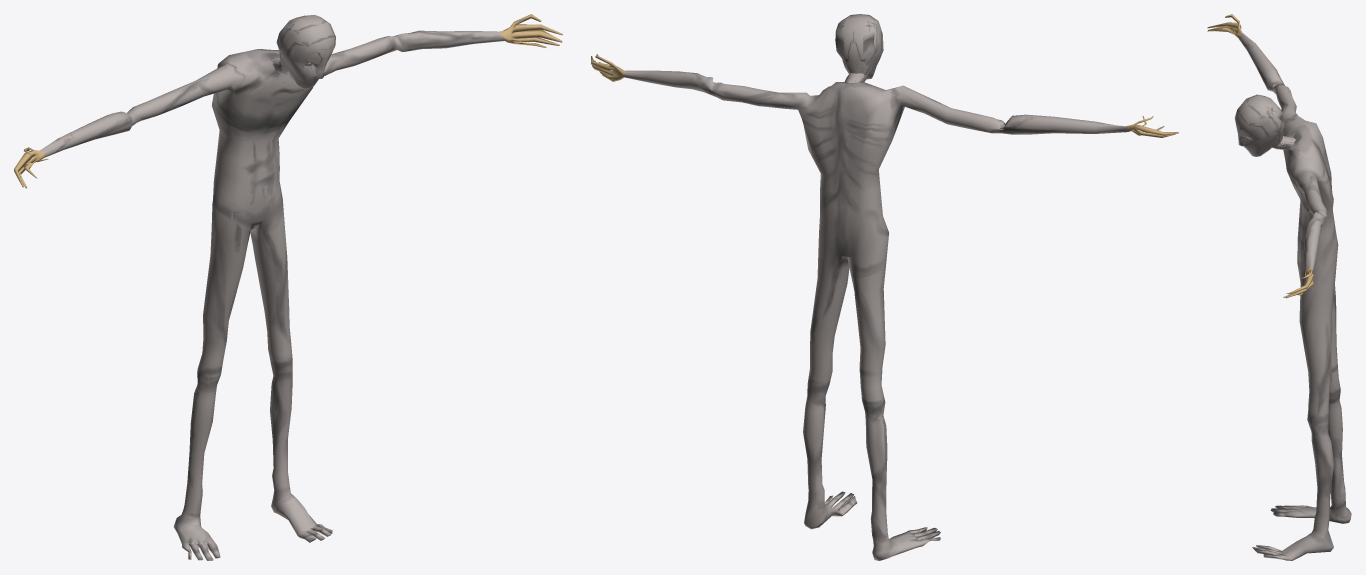
The model's file is the phantom2.obj.
3 renders of one model, left to right at view 1: azimuth 30°, elevation 25°; view 2: azimuth 150°, elevation 25°; view 3: azimuth 270°, elevation 25°, orthographic. The views are drawn at different scales.
Parts seen in each view (by area): view 1: body, head; view 2: body, head; view 3: body, head.
Part boxes in pixels (x1,y1,x2,y2): body: (14, 14, 562, 560); head: (272, 15, 335, 89); body: (591, 54, 1178, 560); head: (835, 14, 883, 83); body: (1207, 14, 1351, 560); head: (1234, 94, 1295, 156).
Size of the model in its own units: 3.79 by 3.28 by 0.9467.
Materials: 3 (1 with a texture image).
